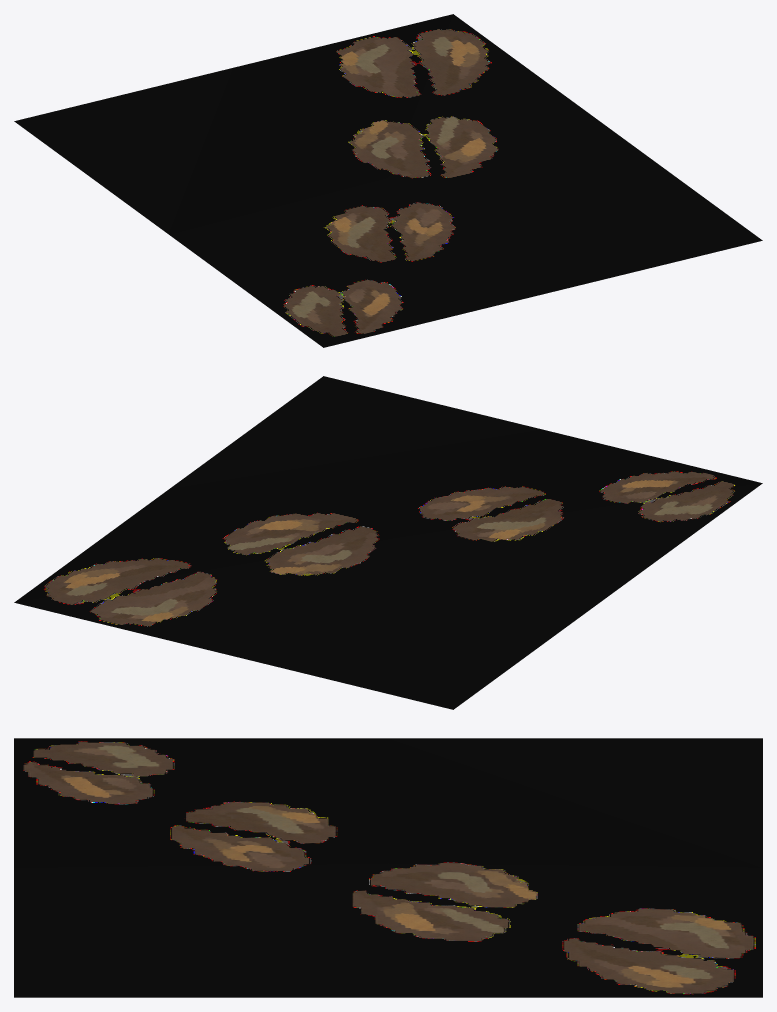
Rendered from SM_D17_HoofTracks.fbx.
The picture shows the model from 3 angles, top to bottom: view 1: azimuth 30°, elevation 25°; view 2: azimuth 150°, elevation 25°; view 3: azimuth 270°, elevation 25°; orthographic projection. The views are drawn at different scales.
Visible parts, largest first — view 1: D17_Decal; view 2: D17_Decal; view 3: D17_Decal.
Boxes of the visible parts, x1,y1,x2,y2 form: D17_Decal: (14,14,762,347); D17_Decal: (14,376,762,709); D17_Decal: (14,738,762,997).
Bounding box in the file's own units: 1.07 × 0.008 × 1.3.
